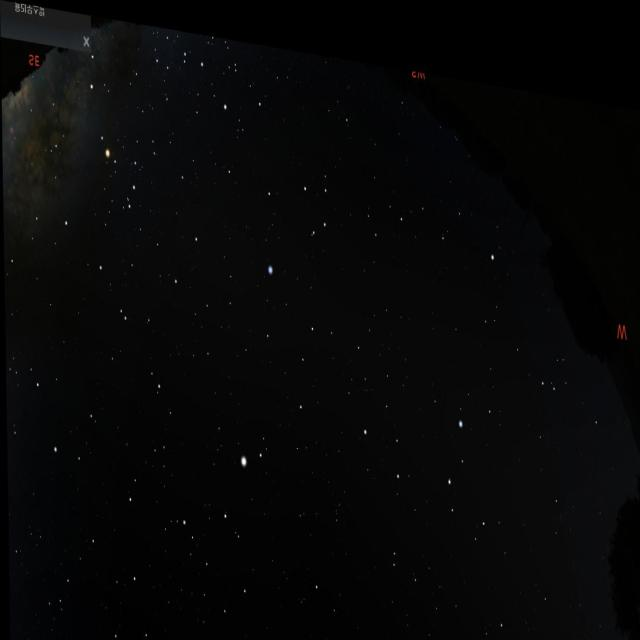bootes: (190, 427, 271, 628)
leo: (347, 358, 503, 554)
scorpius: (69, 41, 148, 237)
